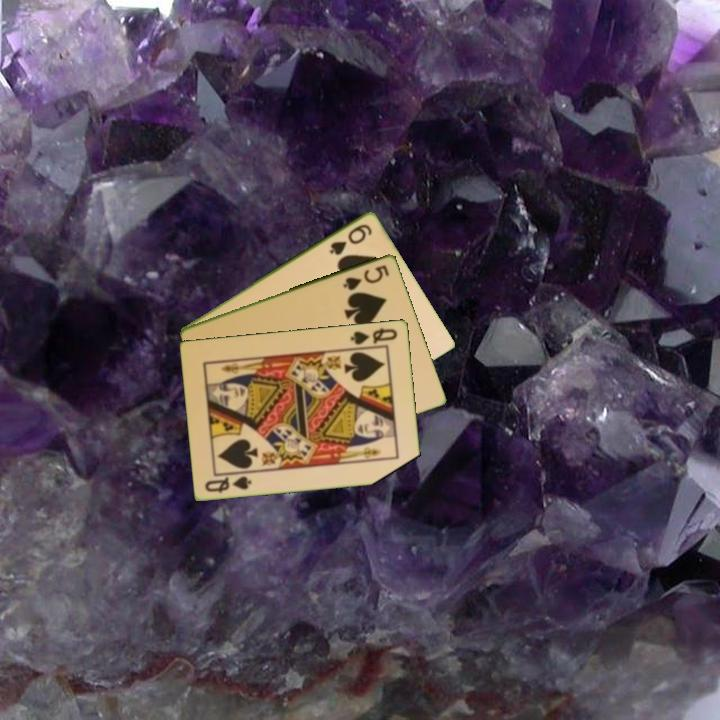5s: (339, 261, 392, 293)
6s: (326, 220, 375, 258)
Qs: (347, 324, 401, 347), (202, 472, 254, 495)
